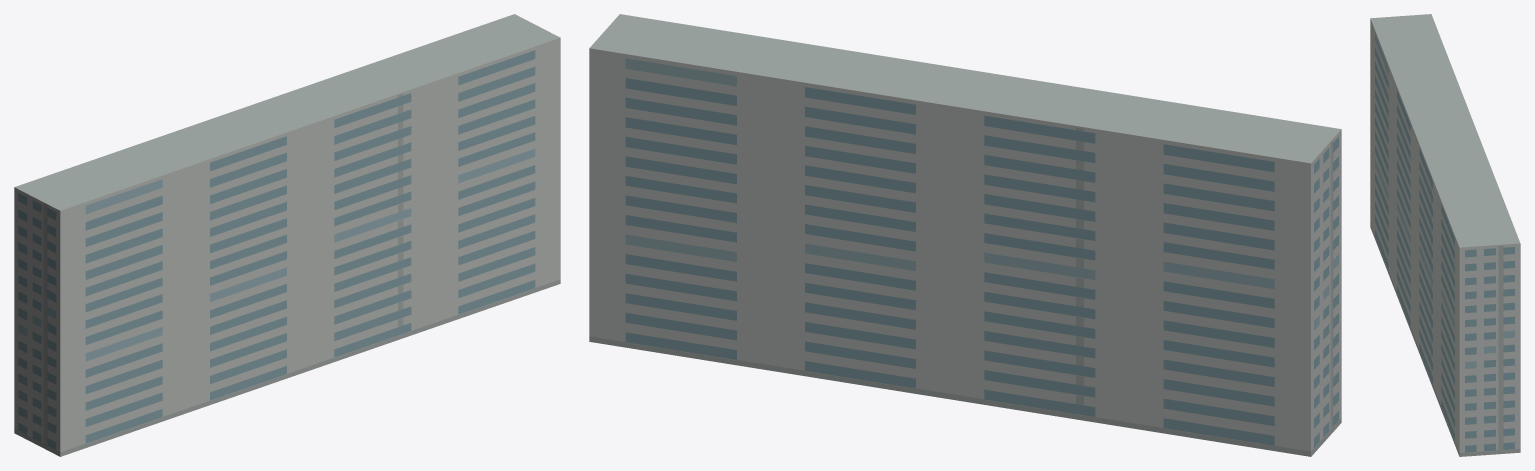
The model's file is residential-ce55576d-2b1f-410d-9a68-7c2e8899f260.glb.
3 views of the same model, side by side, from view 1: azimuth 30°, elevation 25°; view 2: azimuth 150°, elevation 25°; view 3: azimuth 270°, elevation 25° (orthographic). The views are drawn at different scales.
Parts seen in each view (by area): view 1: residential-ce55576d-2b1f-410d-9a68-7c2e8899f260.tmp; view 2: residential-ce55576d-2b1f-410d-9a68-7c2e8899f260.tmp; view 3: residential-ce55576d-2b1f-410d-9a68-7c2e8899f260.tmp.
Part boxes in pixels (box(x1,y1,x2,y2)): residential-ce55576d-2b1f-410d-9a68-7c2e8899f260.tmp: box(14, 14, 560, 456); residential-ce55576d-2b1f-410d-9a68-7c2e8899f260.tmp: box(589, 14, 1341, 456); residential-ce55576d-2b1f-410d-9a68-7c2e8899f260.tmp: box(1370, 14, 1520, 456).
Size of the model in its own units: 110 by 45.75 by 29.73.
